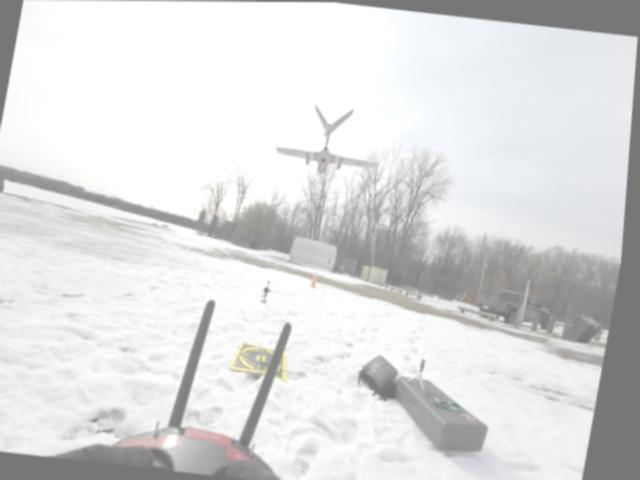plane: (275, 101, 390, 179)
